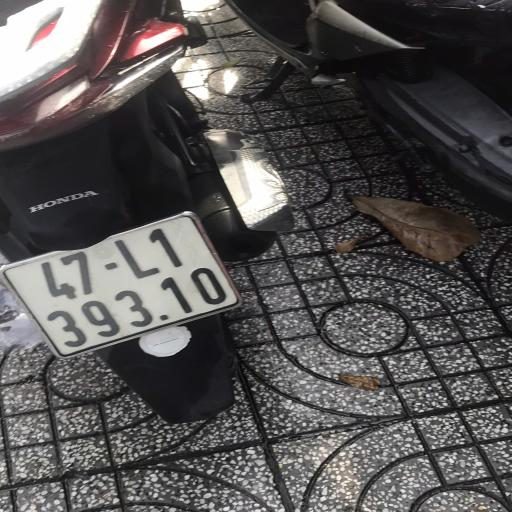0: (190, 265, 236, 312)
1: (149, 275, 202, 328), (138, 226, 192, 270)
3: (35, 308, 94, 352), (106, 284, 160, 332)
4: (33, 260, 82, 309)
7: (63, 249, 104, 301)
9: (74, 297, 128, 339)
L: (108, 234, 165, 284)
